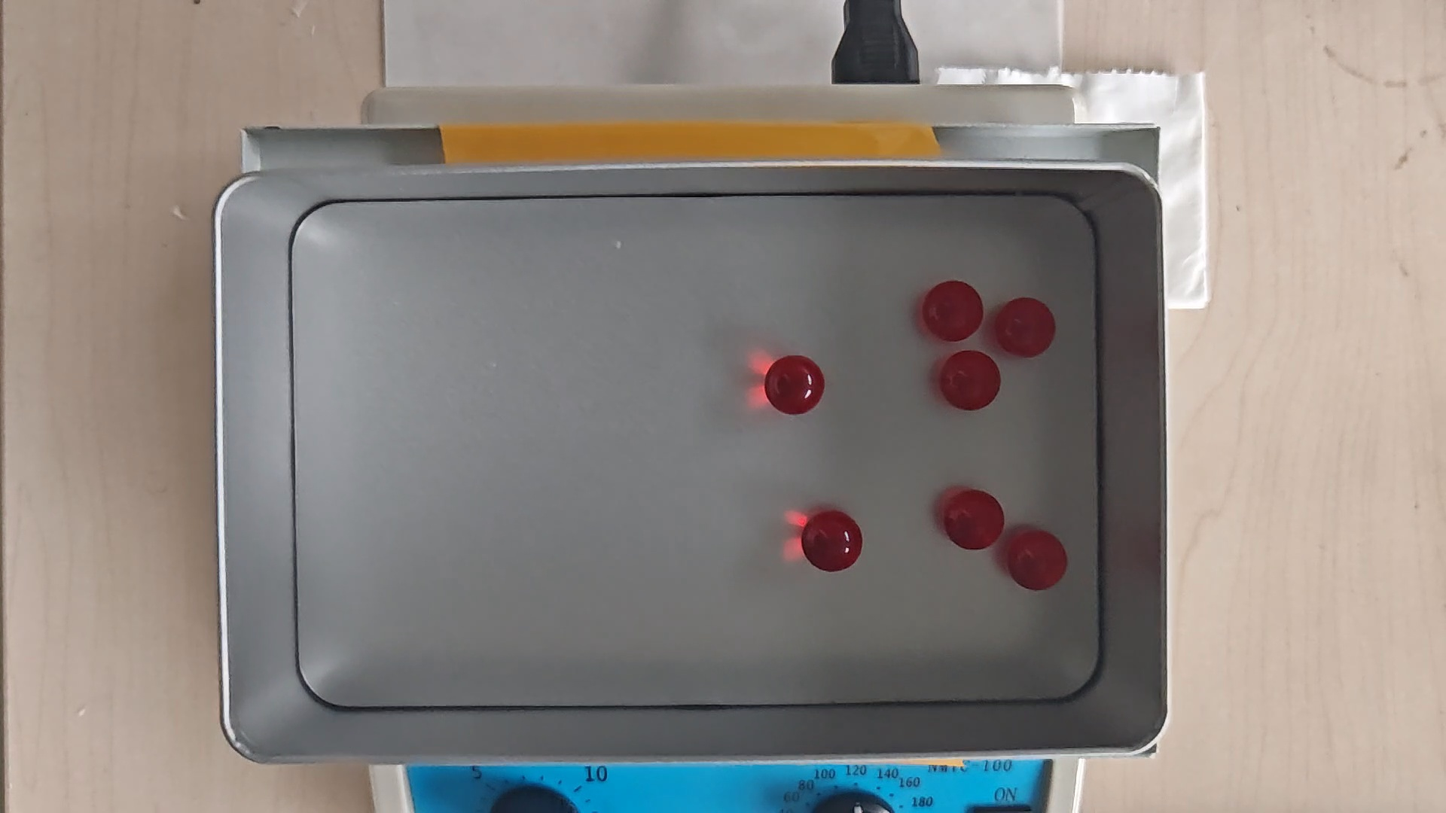ball: (764, 354, 826, 416), (942, 489, 1005, 550), (801, 511, 862, 573), (923, 280, 985, 341), (941, 350, 1001, 413), (996, 297, 1057, 358), (1008, 532, 1068, 592)
container: (288, 199, 1101, 707)
